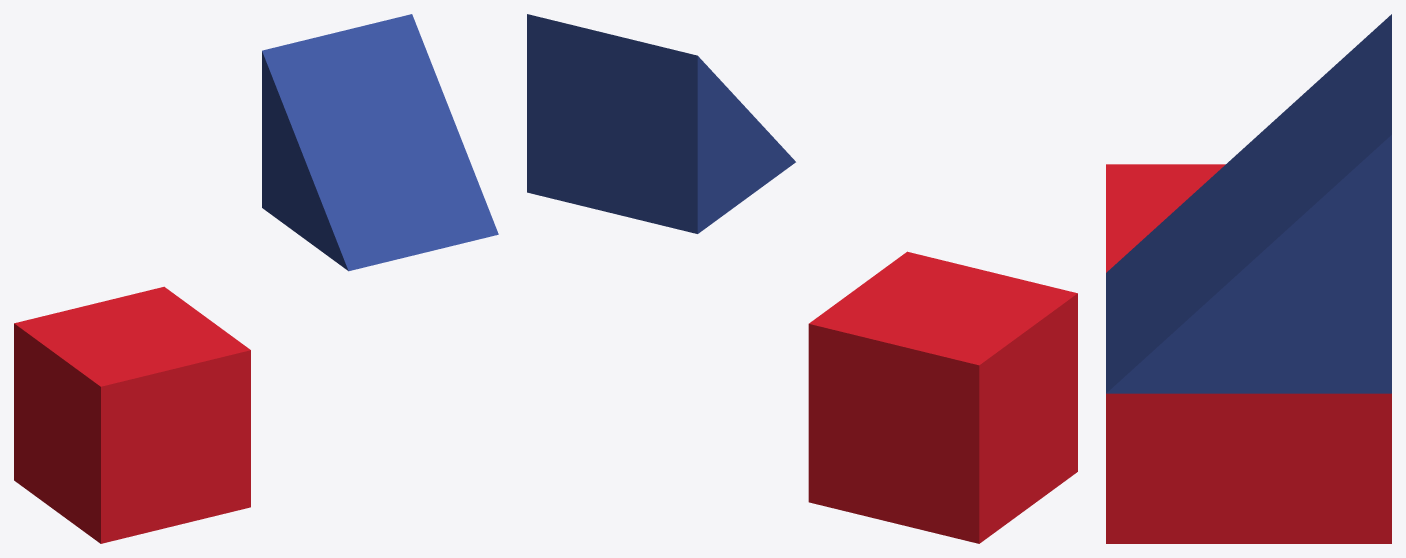
Rendered from SimpleScene.obj.
The picture shows the model from 3 angles, left to right: view 1: azimuth 30°, elevation 25°; view 2: azimuth 150°, elevation 25°; view 3: azimuth 270°, elevation 25°; orthographic projection. The views are drawn at different scales.
Parts seen in each view (by area): view 1: group_0_15277357, group_0_3888547; view 2: group_0_15277357, group_0_3888547; view 3: group_0_3888547, group_0_15277357.
Boxes of the visible parts, x1,y1,x2,y2 form: group_0_15277357: [14, 286, 250, 543]; group_0_3888547: [262, 14, 498, 271]; group_0_15277357: [808, 251, 1077, 543]; group_0_3888547: [527, 14, 795, 233]; group_0_3888547: [1106, 14, 1391, 393]; group_0_15277357: [1106, 164, 1391, 543].
Size of the model in its own units: 53 by 47 by 20.
